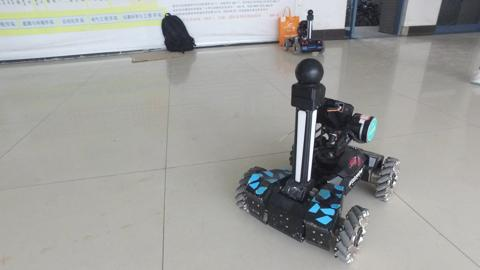bag: (160, 11, 197, 54), (278, 6, 302, 46)
chariot: (234, 56, 400, 265), (281, 7, 325, 55)
